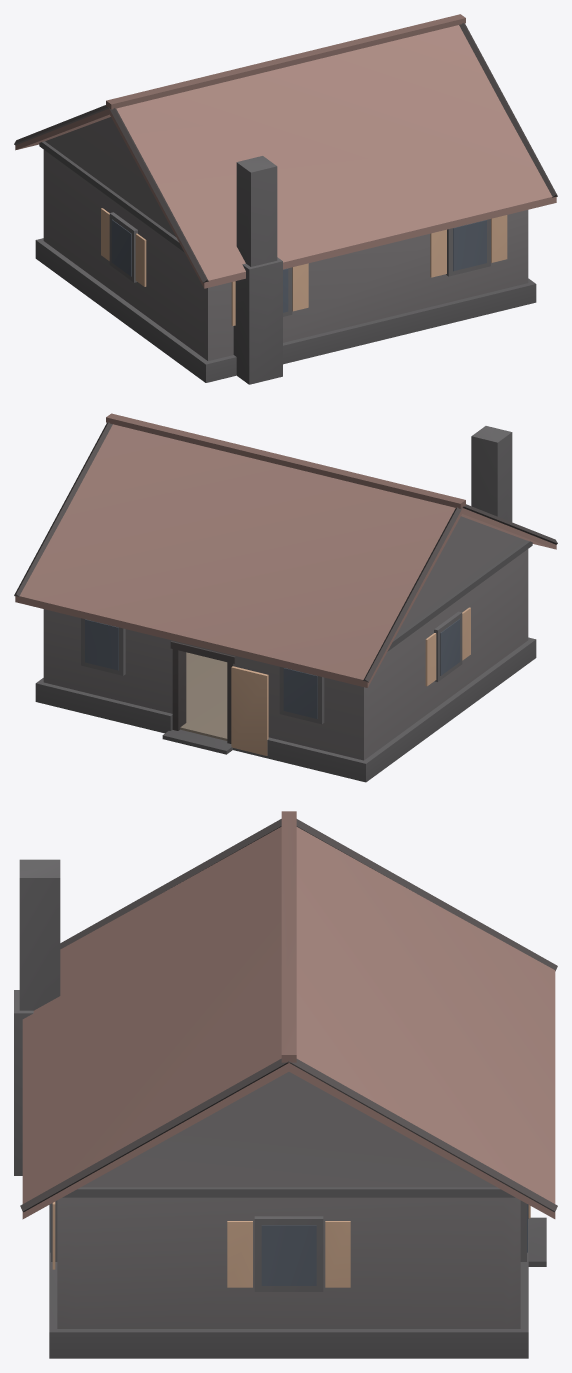
Rendered from open_house_cinder.gltf.
3 renders of one model, top to bottom at view 1: azimuth 30°, elevation 25°; view 2: azimuth 150°, elevation 25°; view 3: azimuth 270°, elevation 25°, orthographic. The views are drawn at different scales.
Parts seen in each view (by area): view 1: Body; view 2: Body; view 3: Body.
Part boxes in pixels (x1=…): Body: x1=14, y1=14, x2=557, y2=384; Body: x1=14, y1=413, x2=557, y2=782; Body: x1=14, y1=811, x2=557, y2=1358.
Size of the model in its own units: 9.97 by 5.94 by 9.39.
